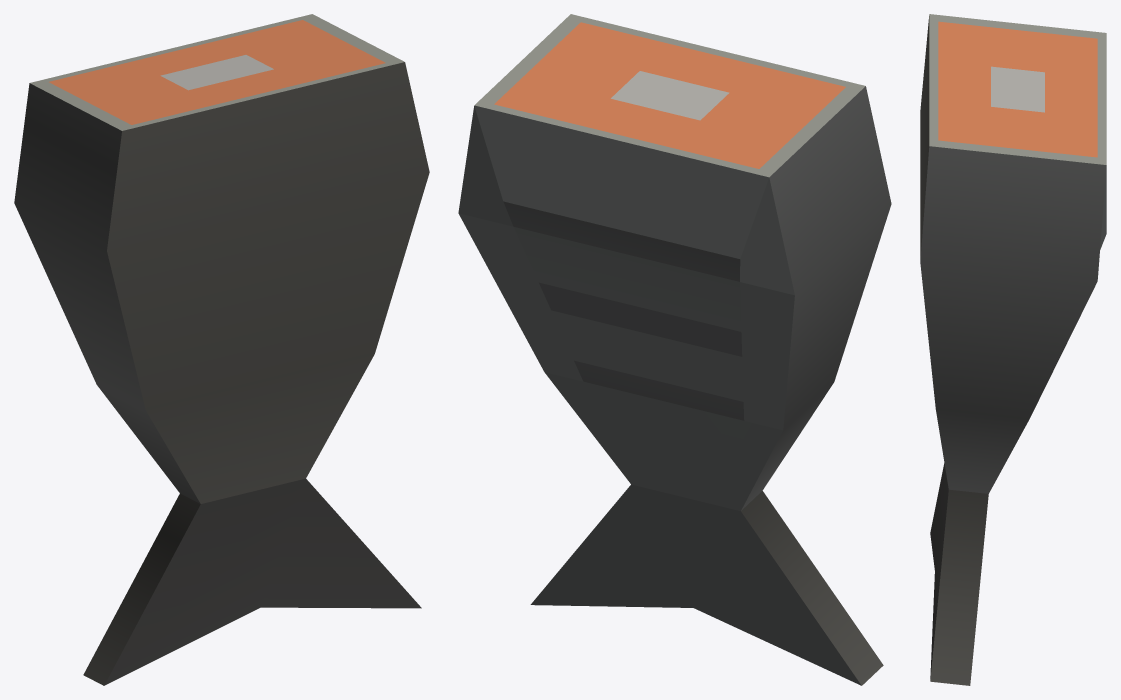
The model's file is Fish.fbx.
3 views of the same model, side by side, from view 1: azimuth 30°, elevation 25°; view 2: azimuth 150°, elevation 25°; view 3: azimuth 270°, elevation 25° (orthographic). The views are drawn at different scales.
Visible parts, largest first — view 1: Fish; view 2: Fish; view 3: Fish.
Boxes of the visible parts, bbox=[...] form: Fish: bbox=[14, 14, 429, 685]; Fish: bbox=[458, 14, 891, 685]; Fish: bbox=[920, 14, 1106, 685].
Size of the model in its own units: 0.2617 by 0.4304 by 0.1368.
